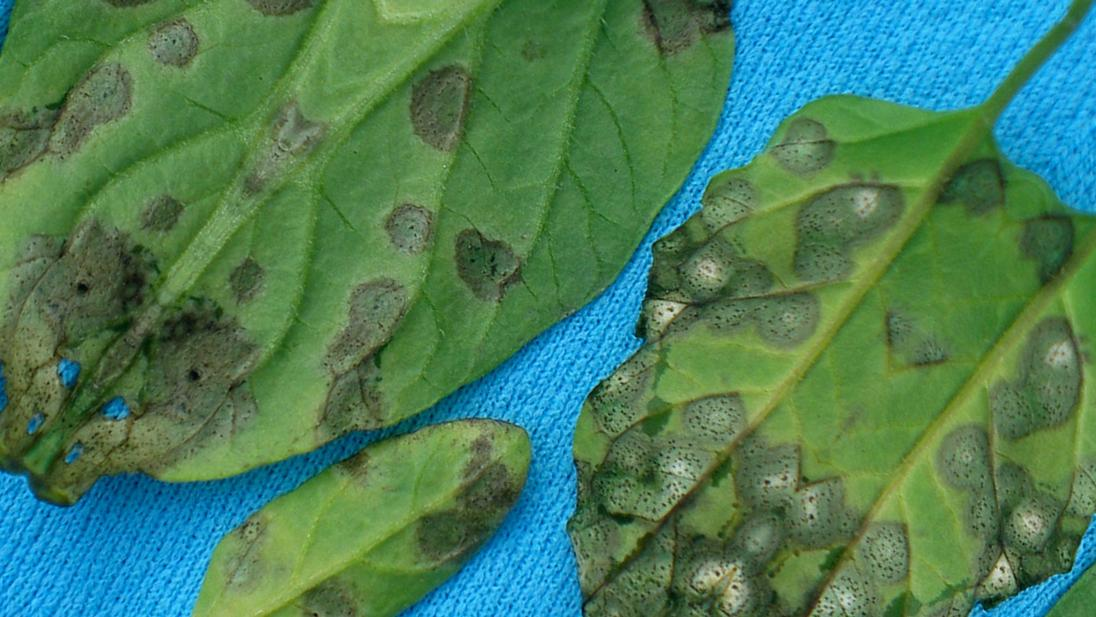Tomato Septoria leaf spot: (9, 0, 859, 617), (414, 0, 1096, 617), (136, 311, 570, 617), (249, 533, 637, 617)
